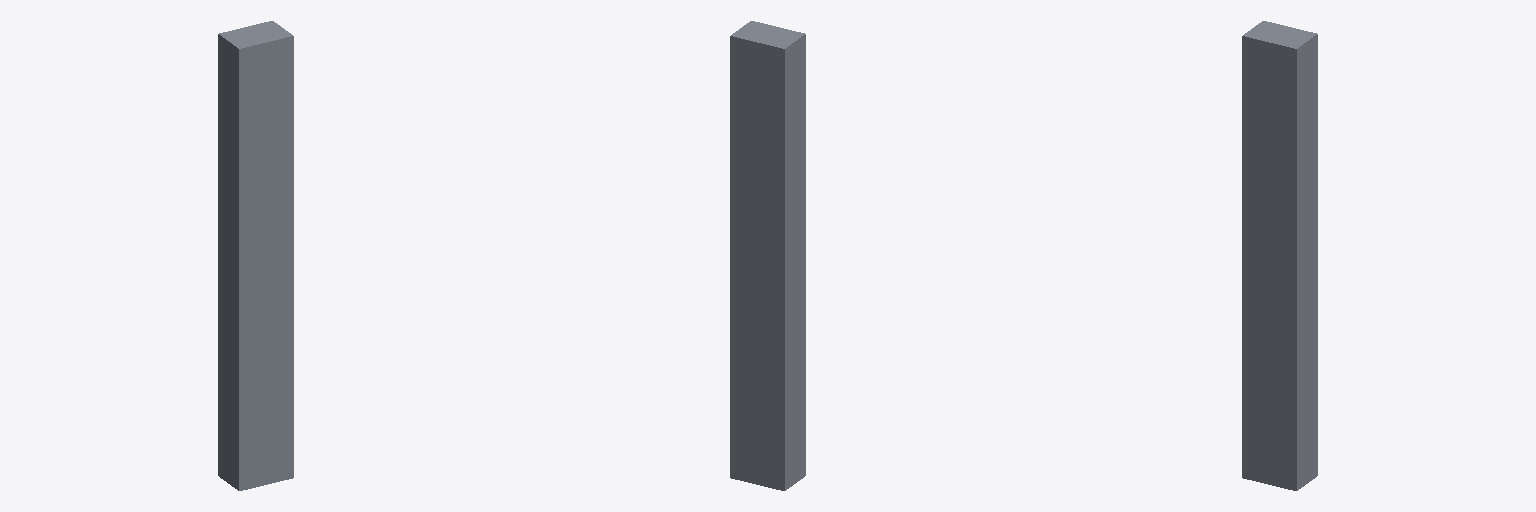
The robot description file, URDF, robot "artmanip_knife_000":
<?xml version='1.0' encoding='utf-8'?>
<robot name="artmanip_knife_000"><link name="link_0"><inertial><mass value="0.03024078756073627" /><inertia ixx="4.594166573893029e-05" iyy="4.636019317679105e-05" izz="1.0957770070414244e-06" ixy="0" ixz="0" iyz="0" /></inertial><visual><geometry><box size="0.017333476463902174 0.011591868485903952 0.13452127540837025" /></geometry><material name="link_0_color"><color rgba=".58 .60 .64 1" /></material></visual><collision><geometry><box size="0.017333476463902174 0.011591868485903952 0.13452127540837025" /></geometry></collision></link><link name="link_1"><inertial><mass value="0.006" /><inertia ixx="4.545e-07" iyy="5e-07" izz="5.45e-08" ixy="0" ixz="0" iyz="0" /></inertial><visual><geometry><mesh filename="slider-shoulder.obj" /></geometry><material name="link_1_color"><color rgba=".12 .13 .15 1" /></material></visual><collision><geometry><mesh filename="slider-shoulder.obj" /></geometry></collision></link><joint name="slider" type="prismatic"><parent link="link_0" /><child link="link_1" /><origin xyz="-0.00042391195251482116 0.0070728977537532845 0.010984369687273378" /><axis xyz="0 0 1" /><limit lower="-0.03267458688196273" upper="0.017325413118037272" effort="100" velocity="1" /><dynamics damping="1000" friction="0.001" /></joint></robot>

--- Render facts (derived) ---
3 views of the same robot in one strip: view 1: azimuth 30°, elevation 25°; view 2: azimuth 150°, elevation 25°; view 3: azimuth 330°, elevation 25° (orthographic).
Robot: artmanip_knife_000 — 2 links, 1 joints (1 prismatic); root link link_0; default pose: every joint at zero.
Links seen in each view (by area): view 1: link_0; view 2: link_0; view 3: link_0.
Boxes of the visible links, box(x1,y1,x2,y2) form: link_0: box(218, 21, 293, 490); link_0: box(730, 21, 805, 490); link_0: box(1242, 21, 1317, 490).
Size in the robot's own frame: 0.0173 by 0.0116 by 0.1345 metres.
0 mesh visuals loaded from 1 distinct referenced files (none loaded); not drawn: 1 (reference not matched to a file when rendering).
